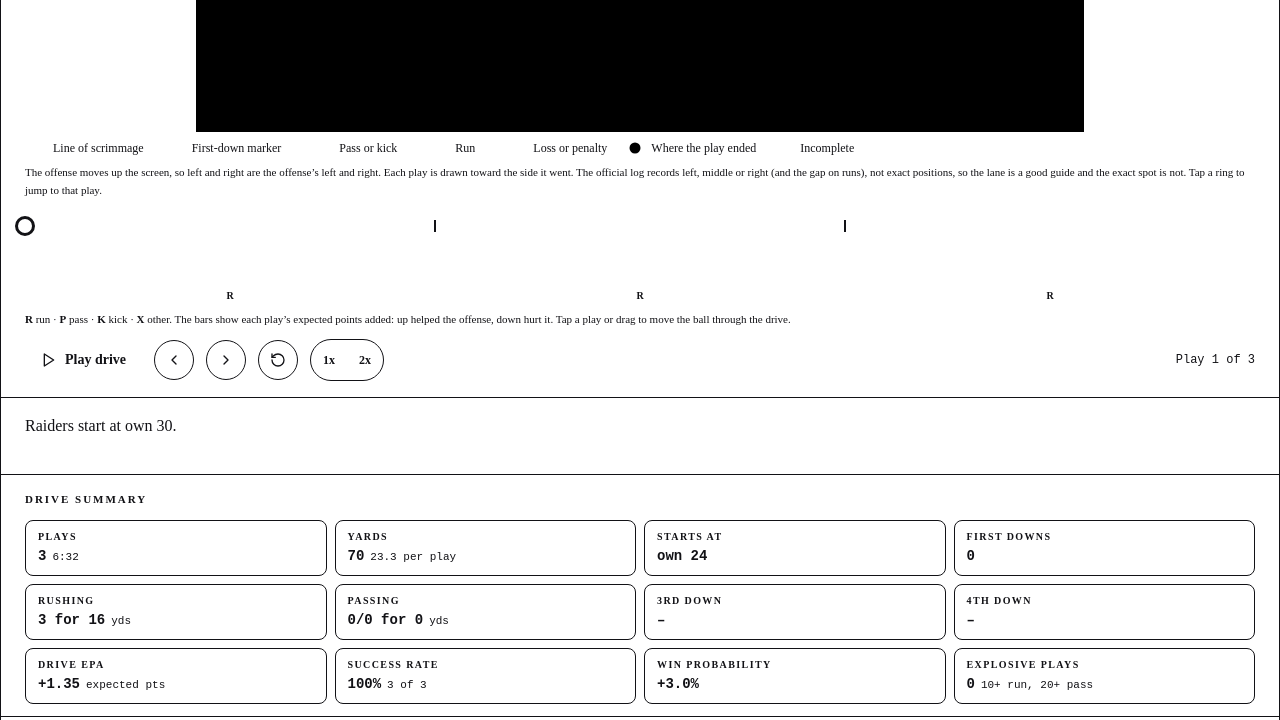
<DriveReplay /> › shows the whole field from above, and the stats for the play on screen
(page scrolled)
Click the button named "Next play" at (226,360), box [206,340,246,380]
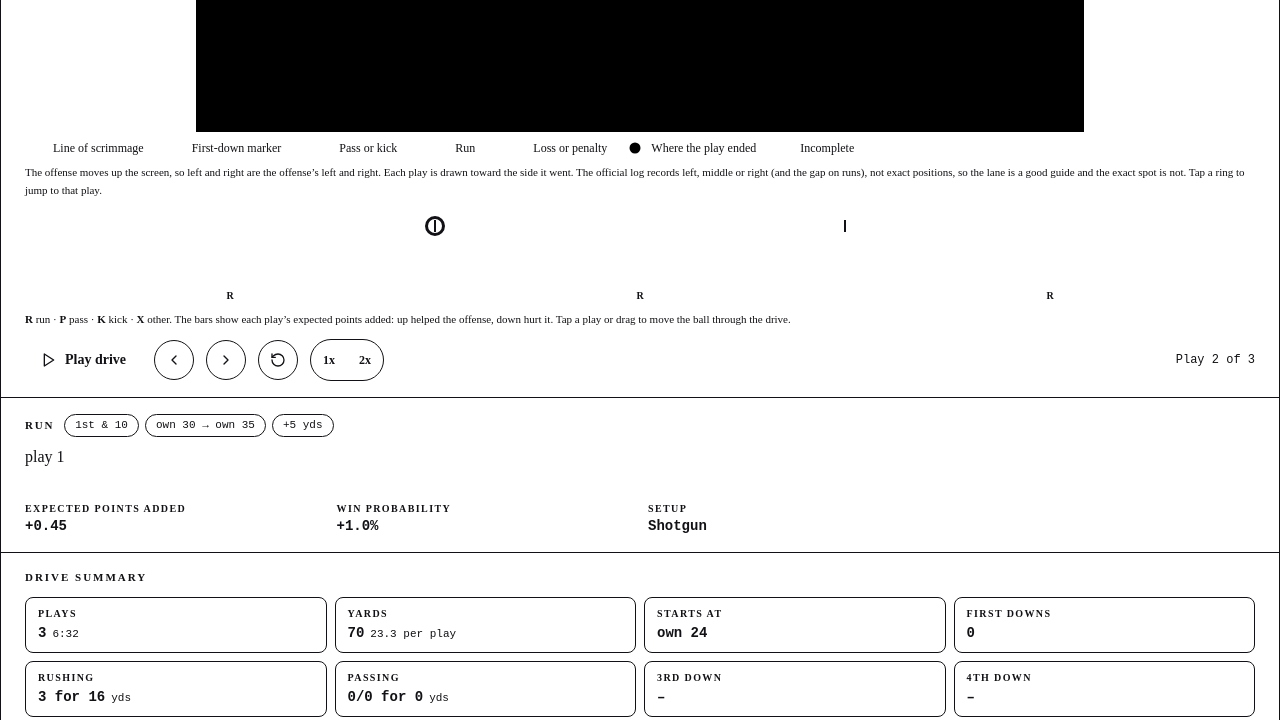
Expected: the text "Play 2 of 3" is shown, [1176,352,1255,368]
Expected: the text "Expected points added" is shown, [25,503,186,514]
Expected: the text "+0.45" is shown, [25,518,67,534]
